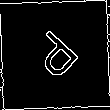P_SE: (24, 24, 86, 86)
